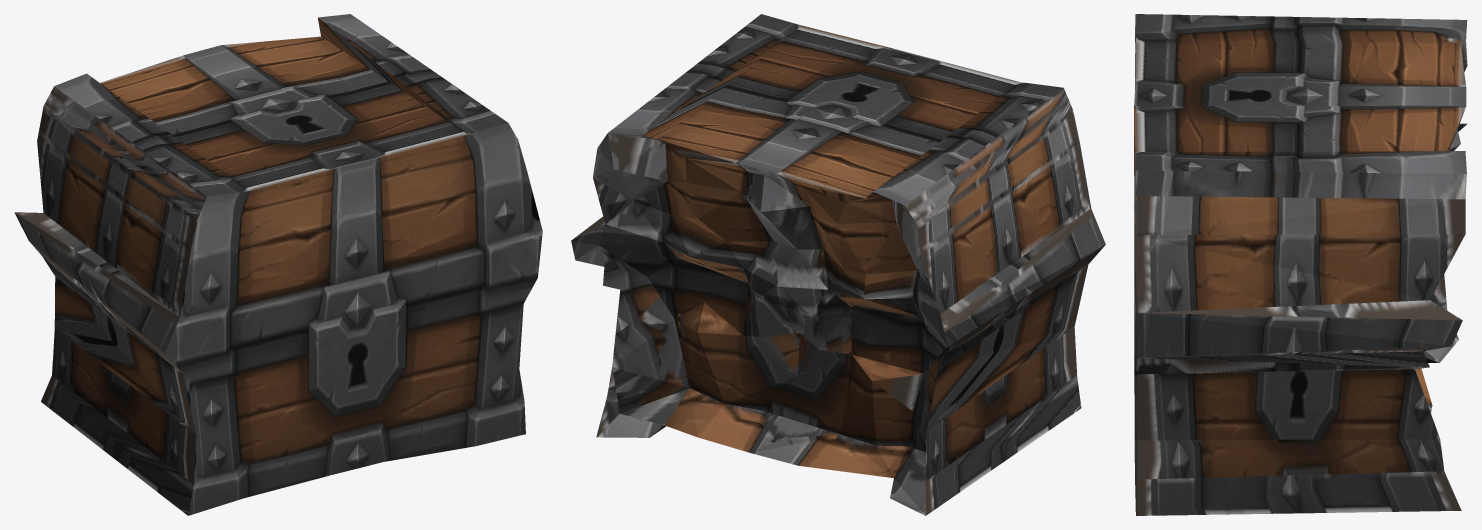
The model's file is SM_Dungeon_Chest_A_LOD2.glb.
The picture shows the model from 3 angles, left to right: view 1: azimuth 30°, elevation 25°; view 2: azimuth 150°, elevation 25°; view 3: azimuth 270°, elevation 25°; orthographic projection. The views are drawn at different scales.
Parts seen in each view (by area): view 1: SM_Dungeon_Chest_A_LOD2; view 2: SM_Dungeon_Chest_A_LOD2; view 3: SM_Dungeon_Chest_A_LOD2.
Boxes of the visible parts, x1=… form: SM_Dungeon_Chest_A_LOD2: x1=14, y1=14, x2=542, y2=515; SM_Dungeon_Chest_A_LOD2: x1=571, y1=14, x2=1105, y2=515; SM_Dungeon_Chest_A_LOD2: x1=1134, y1=14, x2=1467, y2=515.
Size of the model in its own units: 0.9911 by 0.7867 by 0.706.
Materials: 1 (1 with a texture image).
